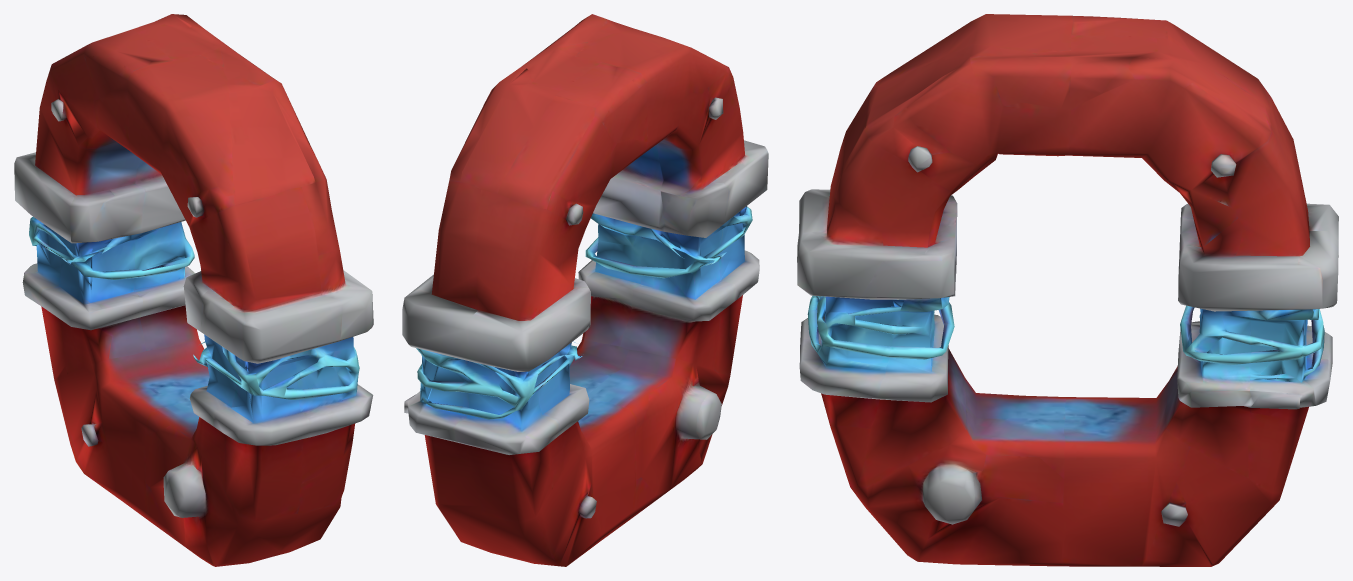
File: magnet.glb
3 renders of one model, left to right at view 1: azimuth 30°, elevation 25°; view 2: azimuth 150°, elevation 25°; view 3: azimuth 270°, elevation 25°, orthographic. The views are drawn at different scales.
Visible parts, largest first — view 1: node_34e882d1-015e-430c-9056-49c3322a855f; view 2: node_34e882d1-015e-430c-9056-49c3322a855f; view 3: node_34e882d1-015e-430c-9056-49c3322a855f.
Boxes of the visible parts, x1,y1,x2,y2 form: node_34e882d1-015e-430c-9056-49c3322a855f: [14, 14, 373, 566]; node_34e882d1-015e-430c-9056-49c3322a855f: [402, 14, 768, 566]; node_34e882d1-015e-430c-9056-49c3322a855f: [797, 14, 1338, 566].
Size of the model in its own units: 0.3611 by 0.9992 by 0.9793.
1 material, 1 textured.
